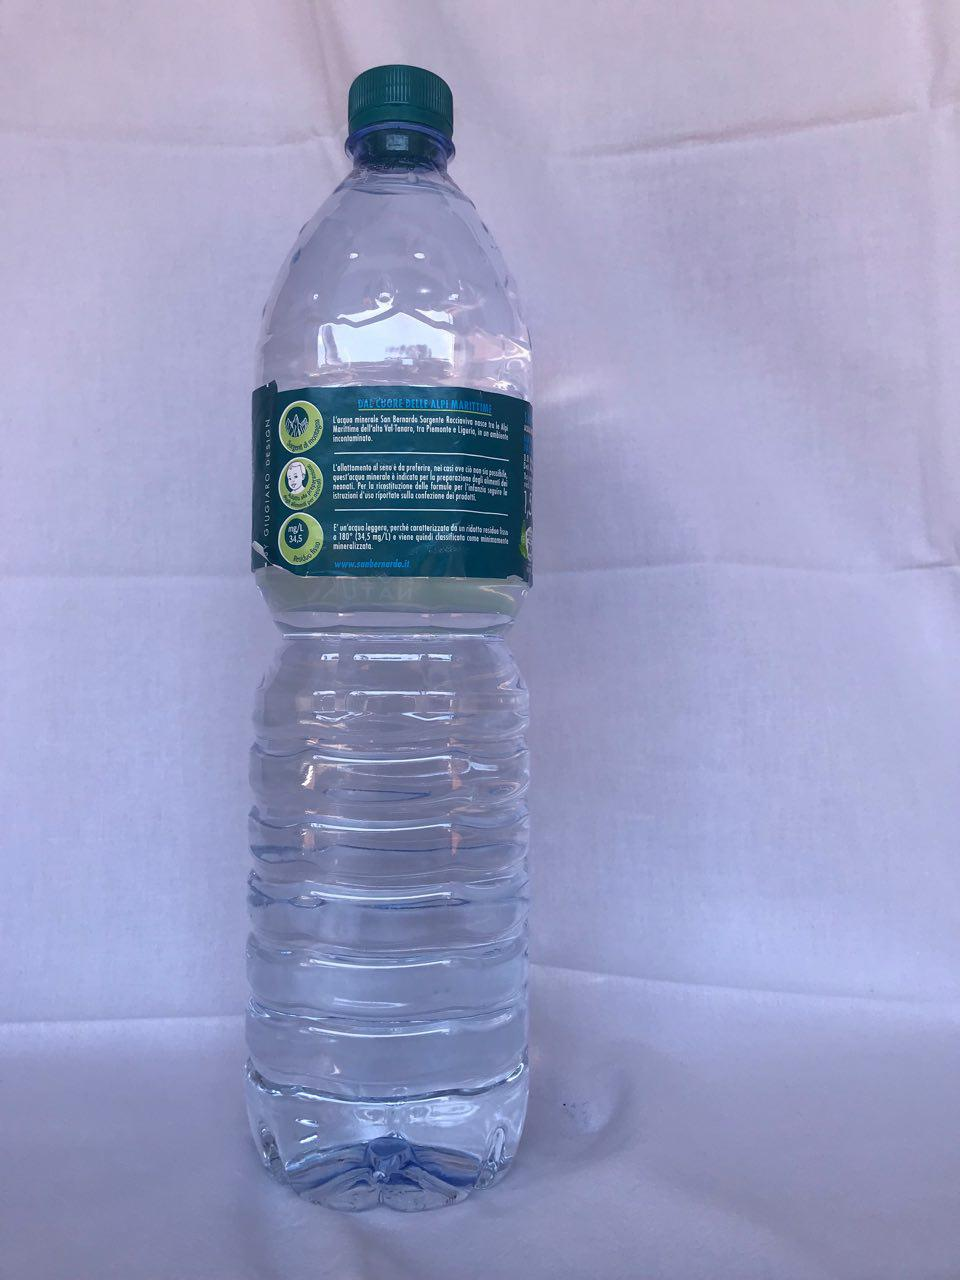san_bernardo: (239, 62, 539, 1215)
